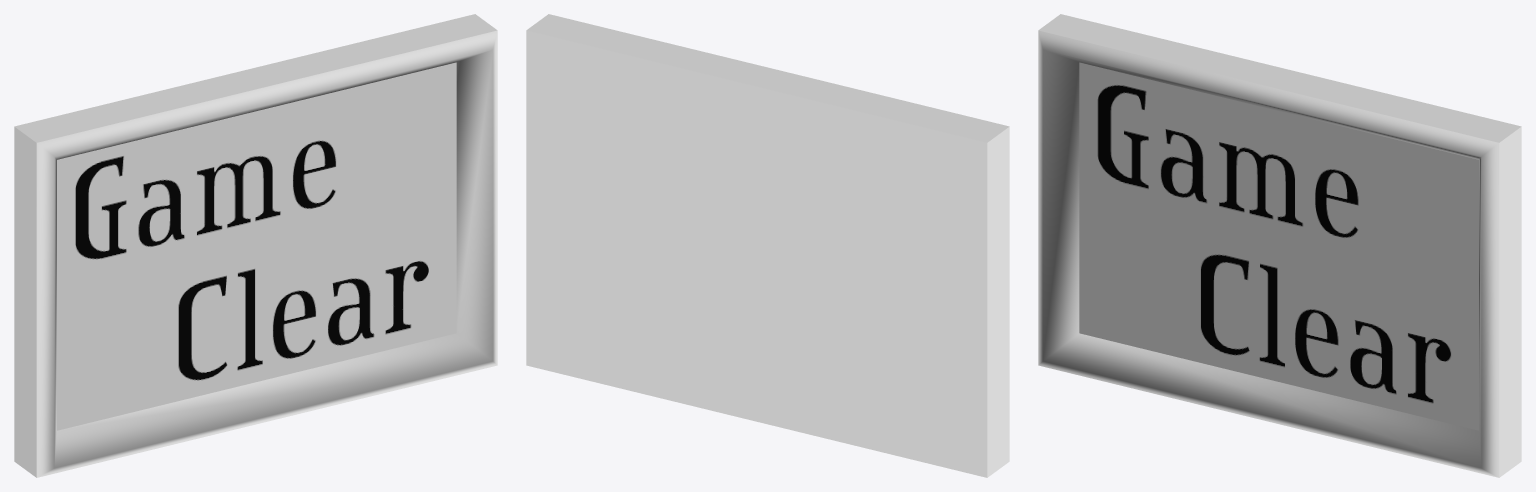
The model's file is kaiga.fbx.
3 views of the same model, side by side, from view 1: azimuth 30°, elevation 25°; view 2: azimuth 150°, elevation 25°; view 3: azimuth 330°, elevation 25° (orthographic).
Parts seen in each view (by area): view 1: obj2, obj1; view 2: obj1; view 3: obj2, obj1.
Part boxes in pixels (x1=…): obj2: x1=57, y1=62, x2=456, y2=430; obj1: x1=14, y1=14, x2=497, y2=477; obj1: x1=526, y1=14, x2=1009, y2=477; obj2: x1=1079, y1=62, x2=1478, y2=430; obj1: x1=1038, y1=14, x2=1521, y2=477.
Bounding box in the file's own units: 360 × 250 × 39.14.
Materials: 2 (1 with a texture image).
